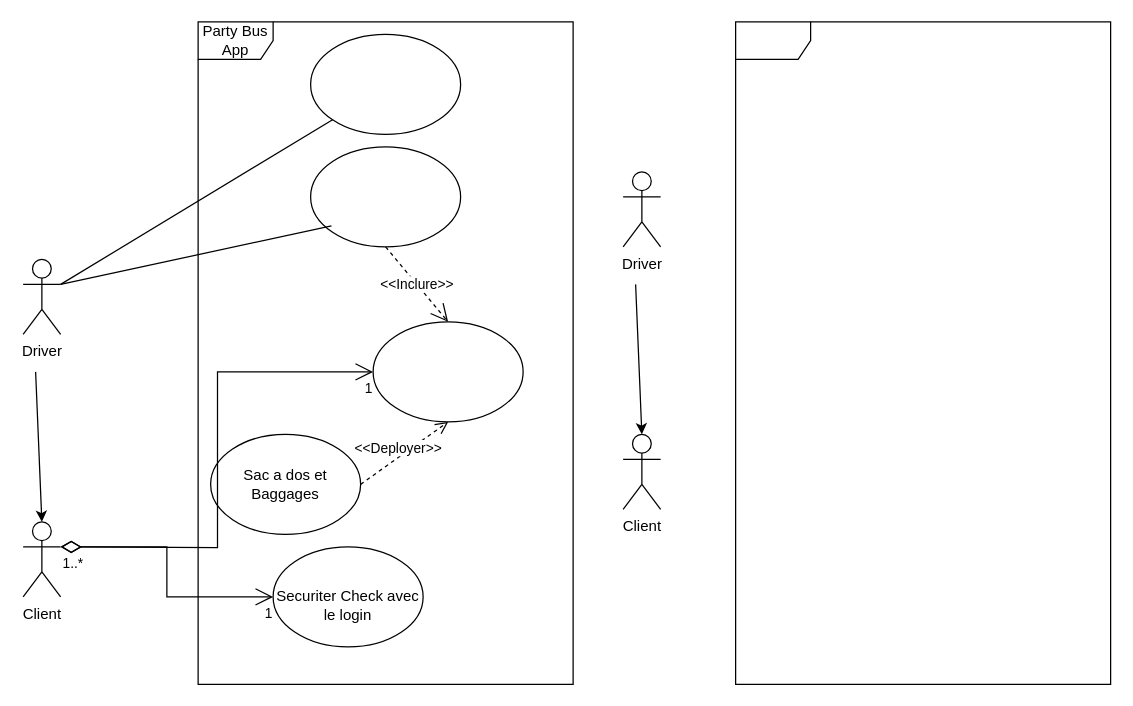
Image size: 1133x706. Some labels were removed from this diagram. The shapes that lost their labels are listed below. From the top down, each one's box as (x1, y1, x2, y2) in pixels, then its label:
(309, 33, 461, 134): Integriter du Bus
(309, 146, 461, 247): Approbation du Groupe
(372, 321, 523, 422): App check-in
(734, 21, 1111, 684): Autobus
